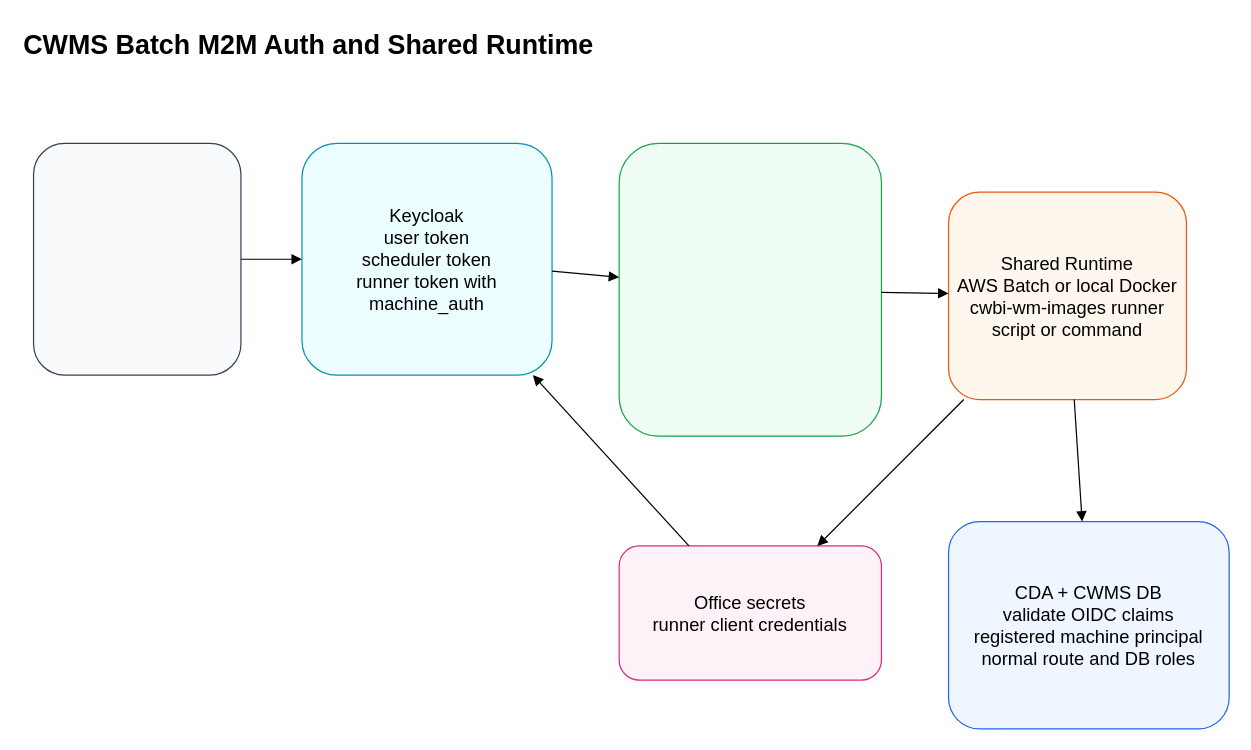
This 1251x750 diagram has some shape labels left out. Here are the shapes that lost their labels. From the top down, the box of each, then its label:
(32, 142, 241, 375): Requesters Web UI user Airflow scheduler
(618, 142, 881, 436): Batch Events registry API jobs DB + queue dispatcher runtime env broker
